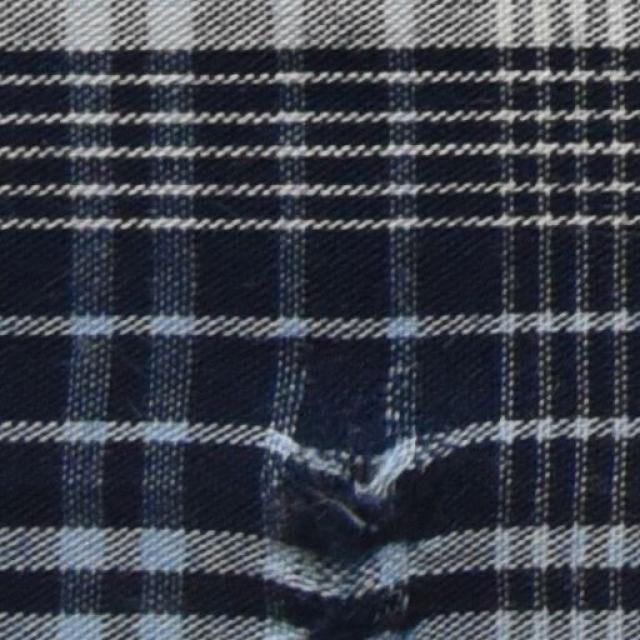Snag: (277, 412, 413, 565)
